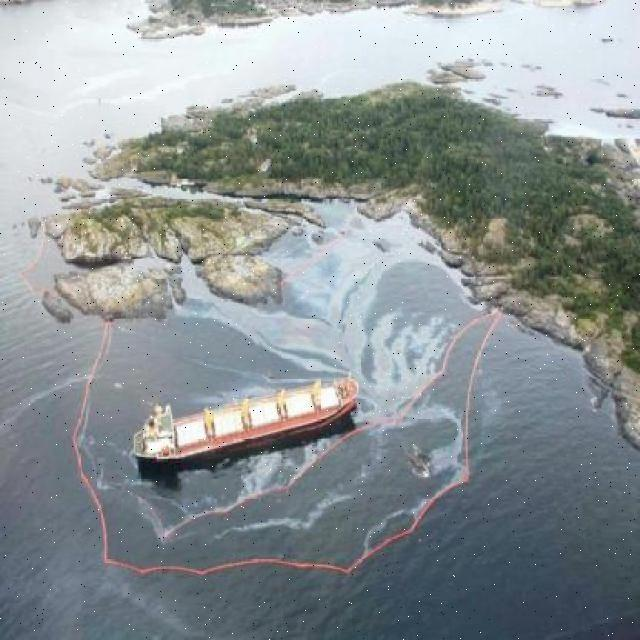oil: (222, 295, 452, 381)
